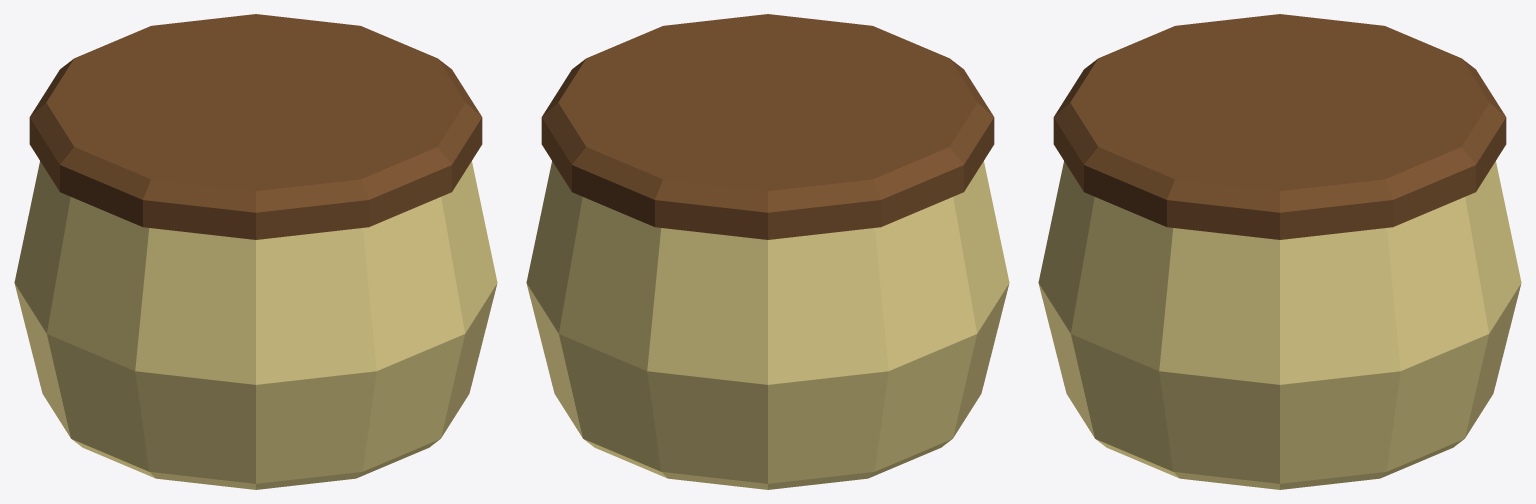
Rendered from Prop_Beauty_03.fbx.
3 renders of one model, left to right at view 1: azimuth 30°, elevation 25°; view 2: azimuth 150°, elevation 25°; view 3: azimuth 270°, elevation 25°, orthographic.
Visible parts, largest first — view 1: Prop_Beauty_03; view 2: Prop_Beauty_03; view 3: Prop_Beauty_03.
Part boxes in pixels (box(x1,y1,x2,y2)): Prop_Beauty_03: box(14, 14, 497, 489); Prop_Beauty_03: box(526, 14, 1009, 489); Prop_Beauty_03: box(1038, 14, 1521, 489).
Bounding box in the file's own units: 24.3 × 16.8 × 24.3.
